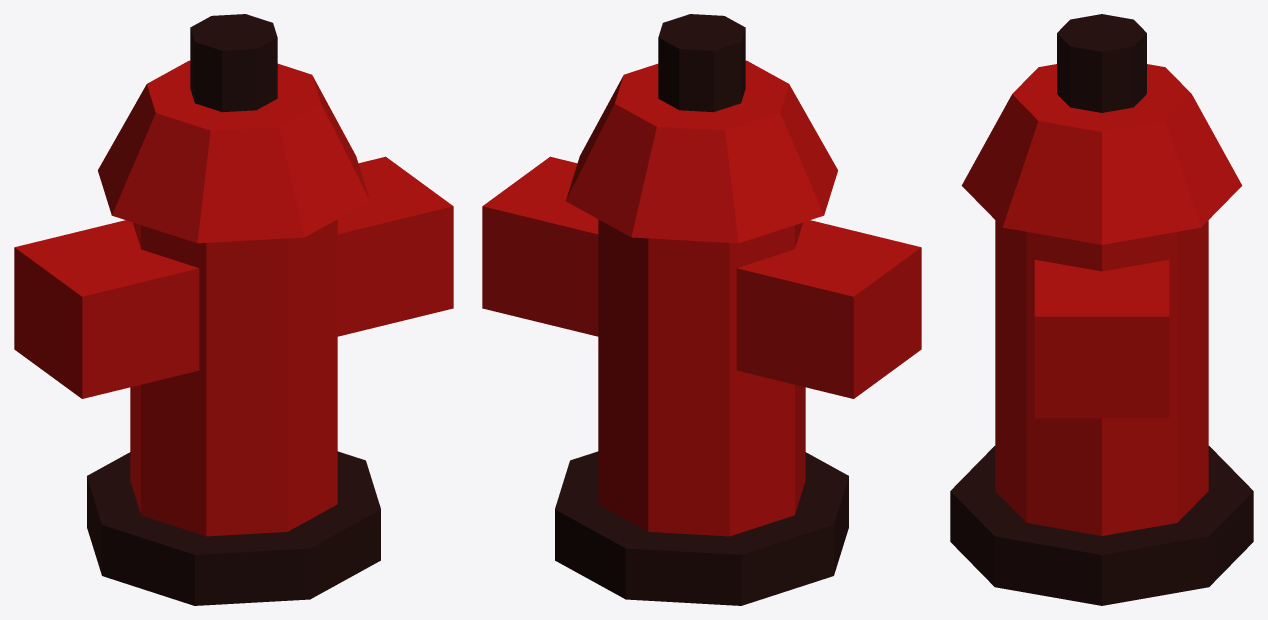
The model's file is hydrant.obj.
3 renders of one model, left to right at view 1: azimuth 30°, elevation 25°; view 2: azimuth 150°, elevation 25°; view 3: azimuth 270°, elevation 25°, orthographic.
Parts seen in each view (by area): view 1: unit_fire_hydrant; view 2: unit_fire_hydrant; view 3: unit_fire_hydrant.
Part boxes in pixels (box(x1,y1,x2,y2)): unit_fire_hydrant: box(14, 14, 453, 605); unit_fire_hydrant: box(482, 14, 921, 605); unit_fire_hydrant: box(950, 14, 1253, 605).
Size of the model in its own units: 0.76 by 1 by 0.54.
